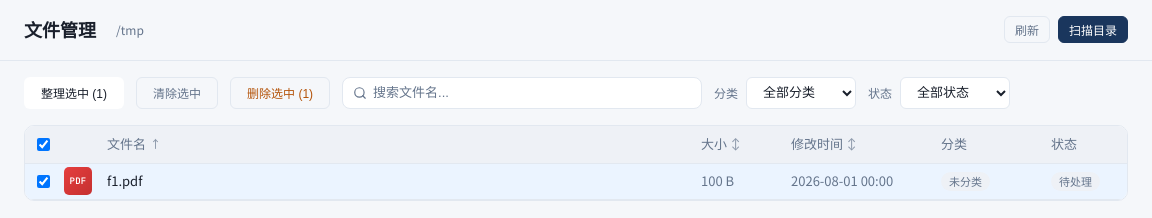
Test case: FilesPage › shows 清除选中 with count and clears selection on click
Click the button with test id "files-clear-selection" at (177, 93), box [136,77,218,109]
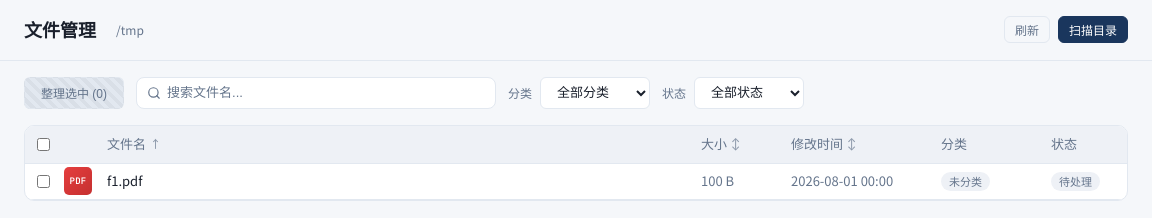
expect the button with test id "files-clear-selection" is gone: met
